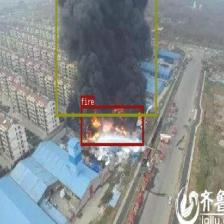fire: (80, 105, 144, 145)
smoke: (55, 0, 156, 115)
